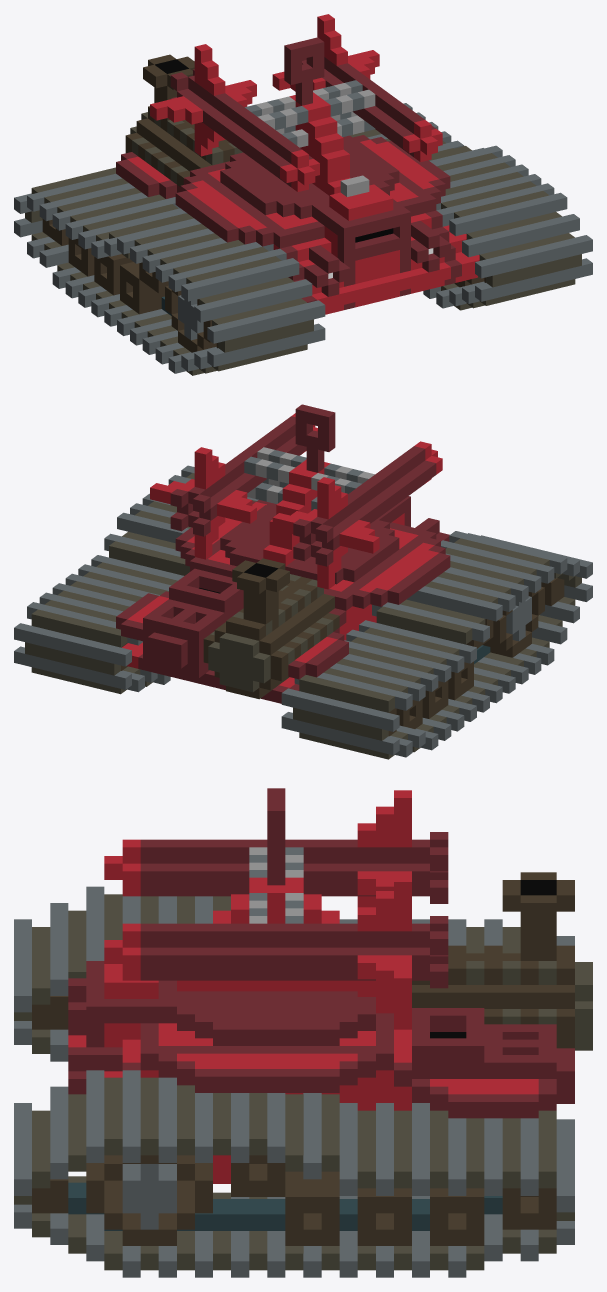
Rendered from rocket_artillery.obj.
The picture shows the model from 3 angles, top to bottom: view 1: azimuth 30°, elevation 25°; view 2: azimuth 150°, elevation 25°; view 3: azimuth 270°, elevation 25°; orthographic projection. The views are drawn at different scales.
Size of the model in its own units: 3.4 by 2.1 by 3.2.
1 material, 1 textured.
